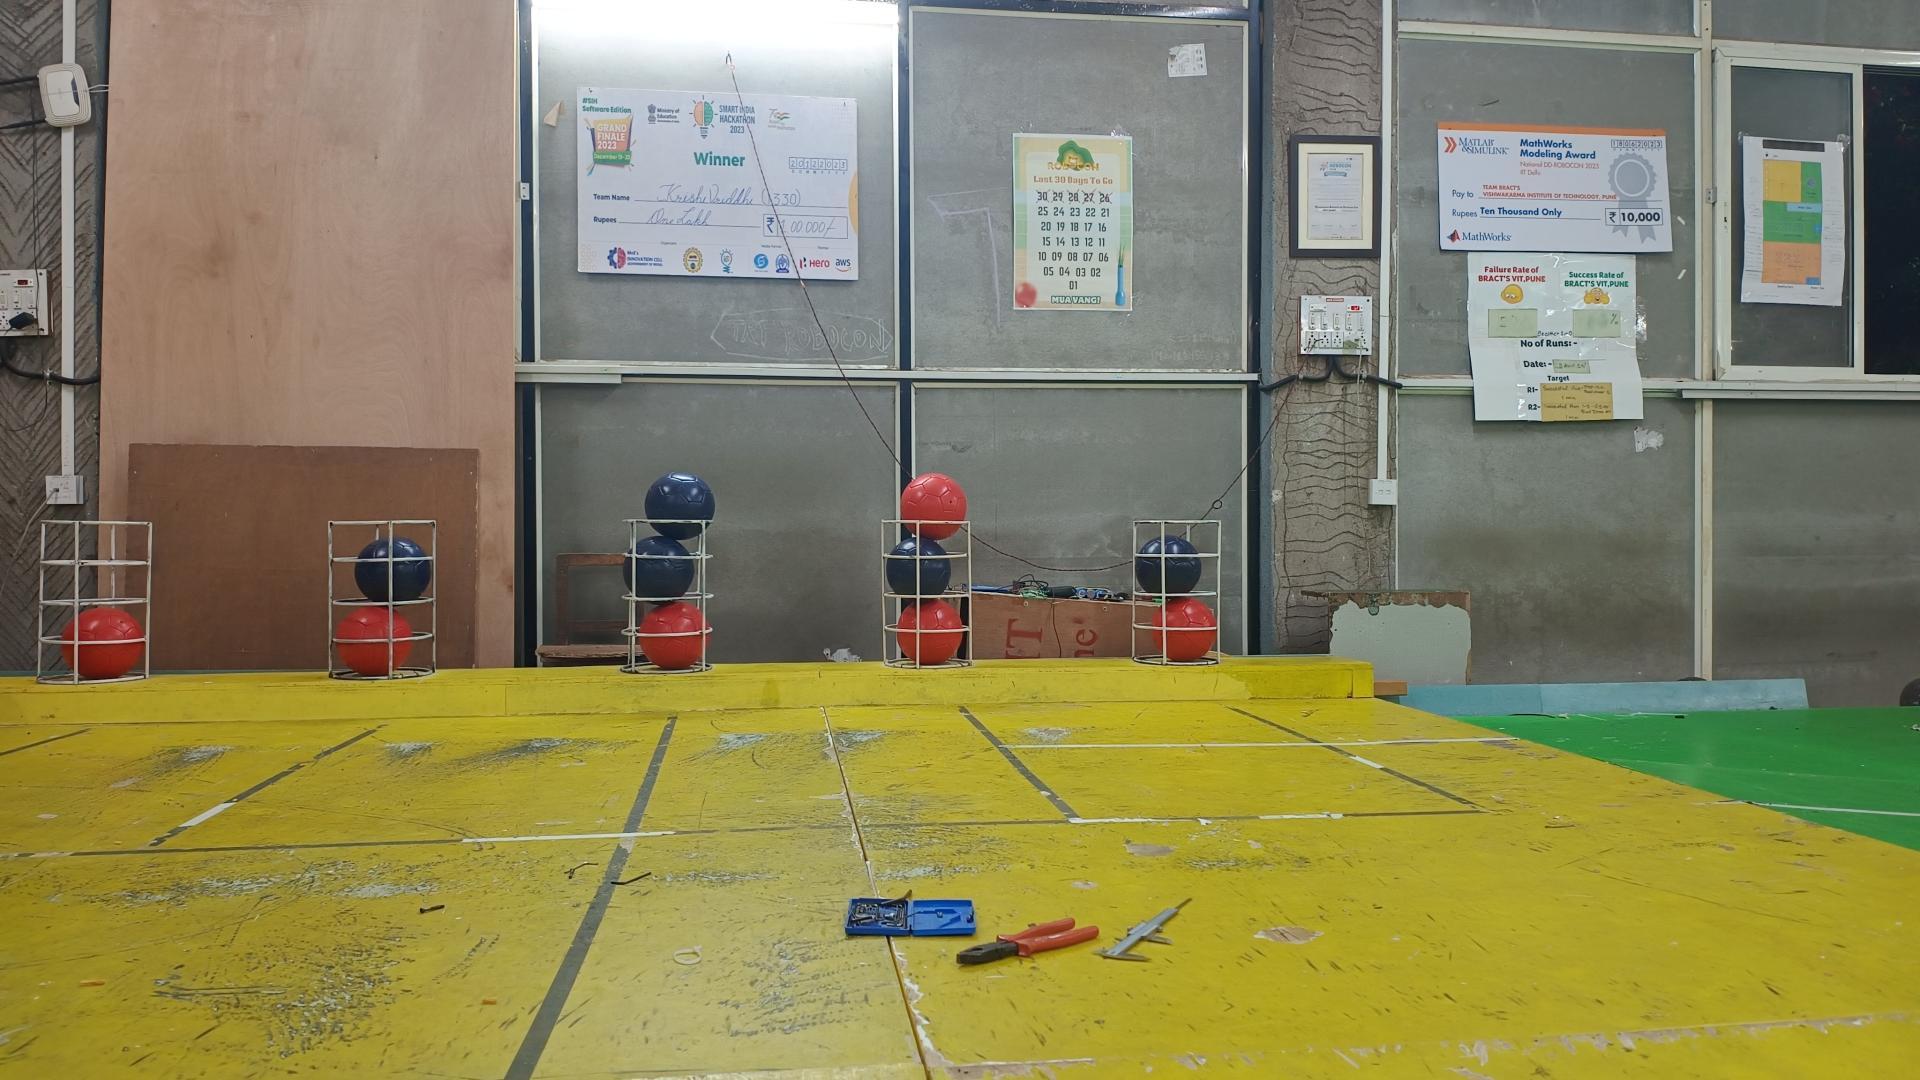dhoka: (645, 472, 716, 539), (355, 539, 430, 603), (624, 534, 695, 597), (1138, 534, 1201, 595), (886, 537, 949, 596)
laale: (61, 605, 146, 680), (334, 607, 413, 678), (638, 601, 709, 669), (897, 597, 964, 665), (899, 475, 967, 538), (1151, 597, 1215, 662)
